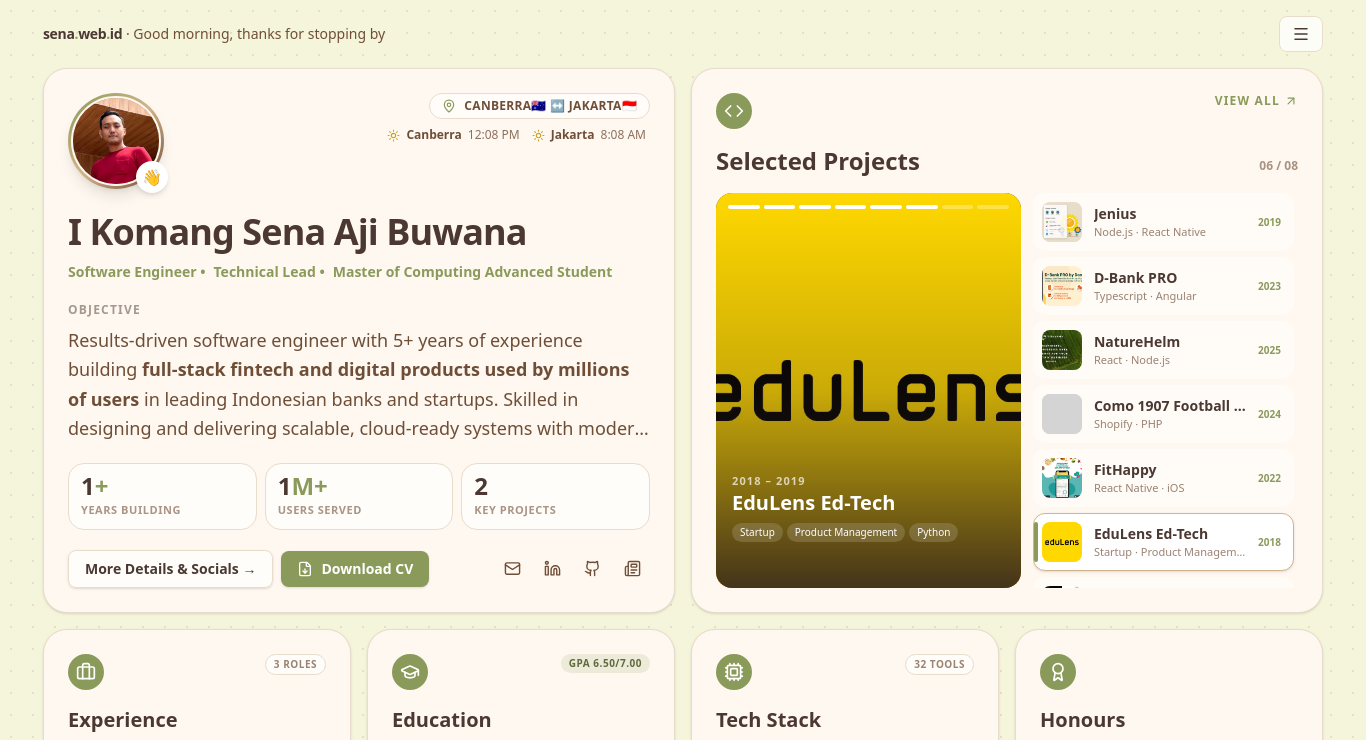
Scenario: App (Portfolio) › opens about modal when profile card is clicked
Click the text "More Details & Socials →".
click(359, 568)  # box left=68, top=550, right=650, bottom=588
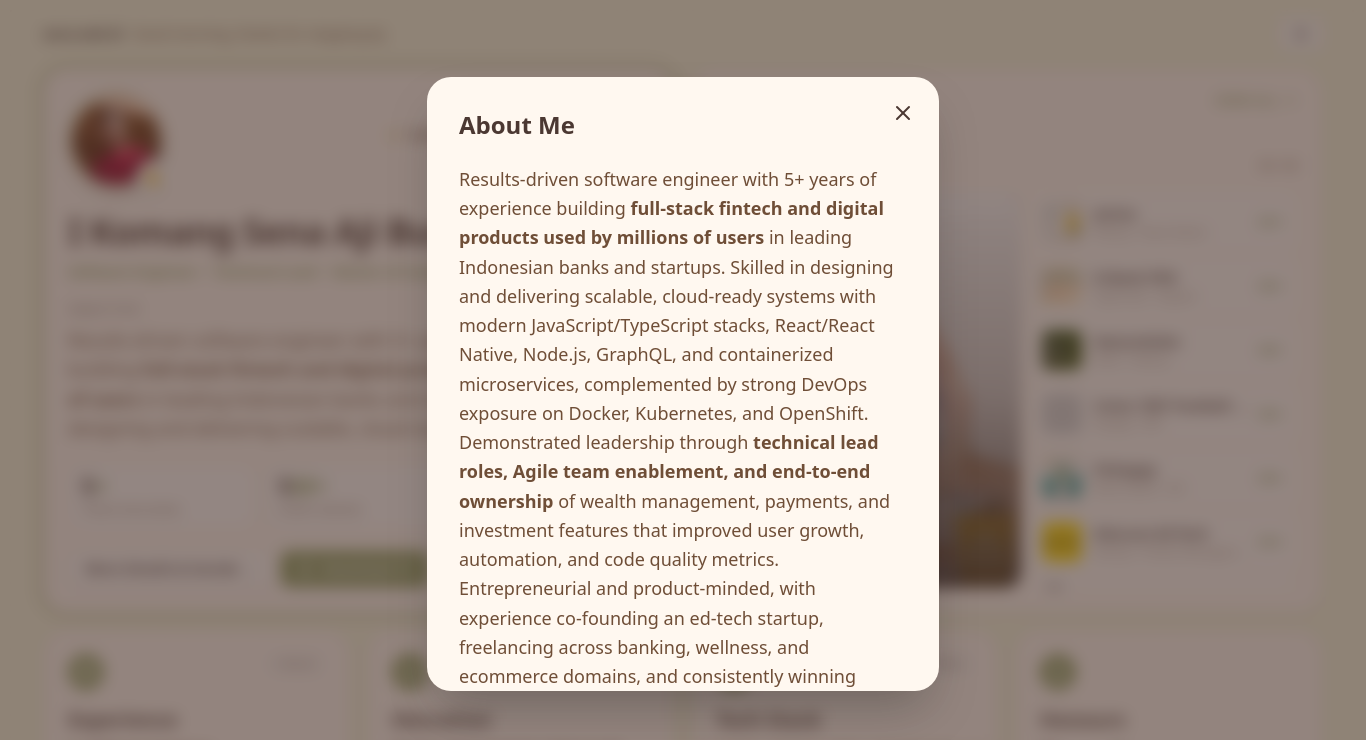
Check: the heading "About Me" is shown, box left=459, top=108, right=575, bottom=141
